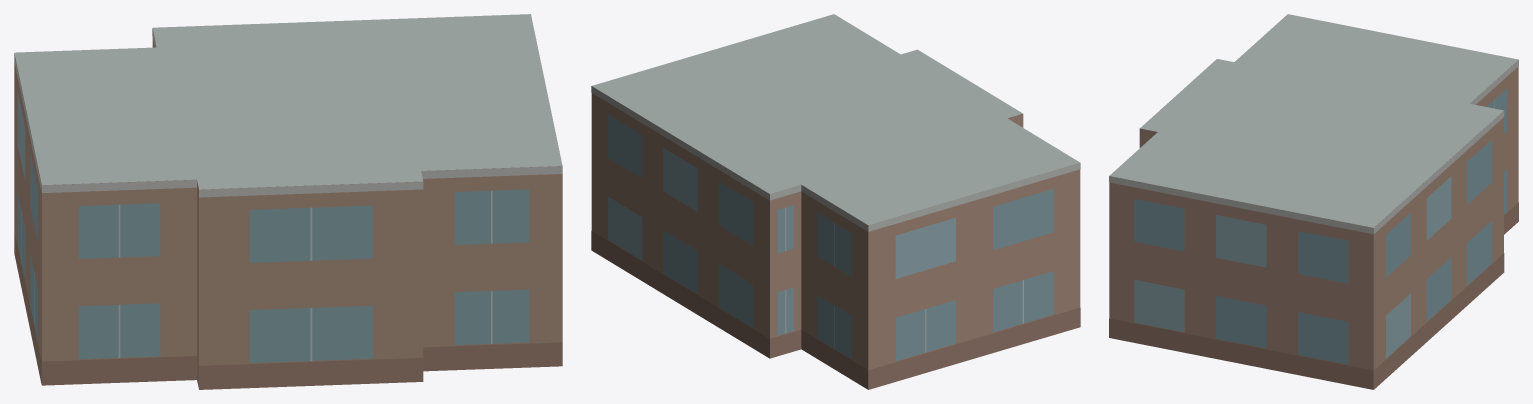
Rendered from survey-upis-32837016.glb.
The picture shows the model from 3 angles, left to right: view 1: azimuth 30°, elevation 25°; view 2: azimuth 150°, elevation 25°; view 3: azimuth 270°, elevation 25°; orthographic projection. The views are drawn at different scales.
Visible parts, largest first — view 1: survey-upis-32837016.tmp; view 2: survey-upis-32837016.tmp; view 3: survey-upis-32837016.tmp.
Part boxes in pixels (<box>): survey-upis-32837016.tmp: <box>14,14,562,389</box>; survey-upis-32837016.tmp: <box>591,14,1080,389</box>; survey-upis-32837016.tmp: <box>1109,14,1518,389</box>.
Size of the model in its own units: 17.29 by 6.1 by 13.99.
